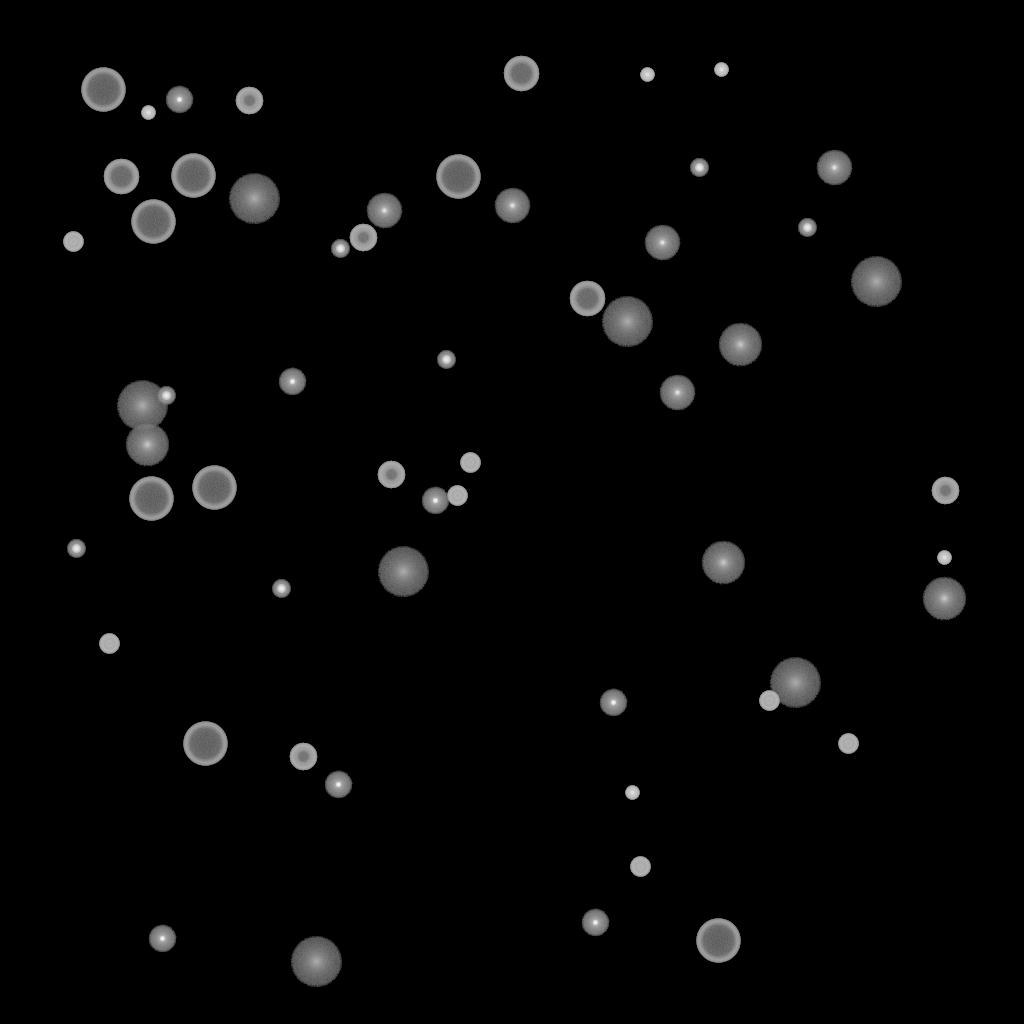depth:-10: (148, 925, 176, 953), (421, 487, 449, 515), (581, 909, 609, 937), (324, 771, 352, 799), (278, 368, 306, 396), (599, 689, 627, 717), (165, 86, 193, 114)
depth:-20: (437, 351, 455, 369), (67, 540, 85, 558), (331, 240, 349, 258), (798, 219, 816, 237), (272, 580, 290, 598), (690, 159, 708, 177), (157, 387, 175, 405)
depth:-30: (937, 551, 951, 565), (640, 68, 654, 82), (714, 63, 728, 77), (141, 106, 155, 120), (625, 786, 639, 800)
depth:-40: (447, 486, 467, 506), (63, 232, 83, 252), (630, 857, 650, 877), (460, 453, 480, 473), (99, 634, 119, 654), (838, 734, 858, 754), (759, 691, 779, 711)
depth:-50: (349, 224, 377, 252), (377, 461, 405, 489), (289, 743, 317, 771), (235, 87, 263, 115), (931, 477, 959, 505)
depth:-60: (569, 281, 605, 317), (503, 56, 539, 92), (103, 159, 139, 195)
depth:-70: (696, 919, 740, 963), (183, 722, 227, 766), (81, 68, 125, 112), (192, 466, 236, 510), (171, 154, 215, 198), (129, 477, 173, 521), (436, 155, 480, 199), (131, 200, 175, 244)
depth:0: (644, 225, 680, 261), (366, 193, 402, 229), (494, 188, 530, 224), (816, 150, 852, 186), (659, 375, 695, 411)
depth:10: (701, 541, 745, 585), (922, 577, 966, 621), (125, 423, 169, 467), (718, 323, 762, 367)
depth:20: (769, 658, 821, 708), (850, 257, 902, 307), (290, 937, 342, 987), (116, 381, 168, 431), (377, 547, 429, 597), (228, 174, 280, 224), (601, 297, 653, 347)
